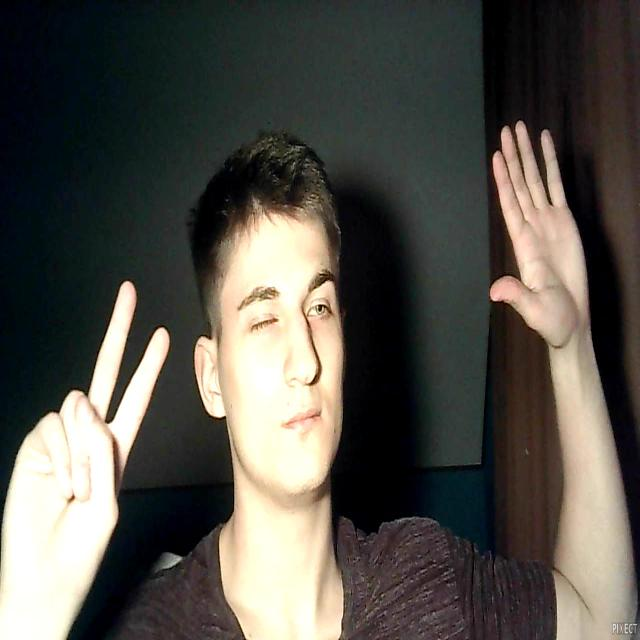Eyeclosed: (248, 311, 278, 339)
Eyeopen: (306, 298, 331, 324)
